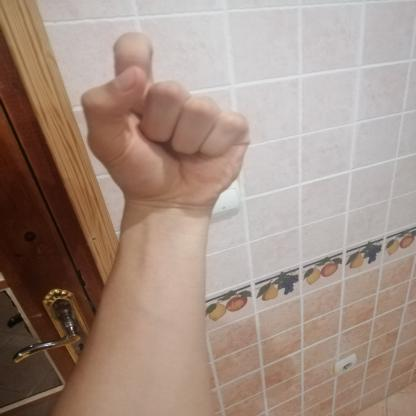FAA: (62, 23, 273, 226)
